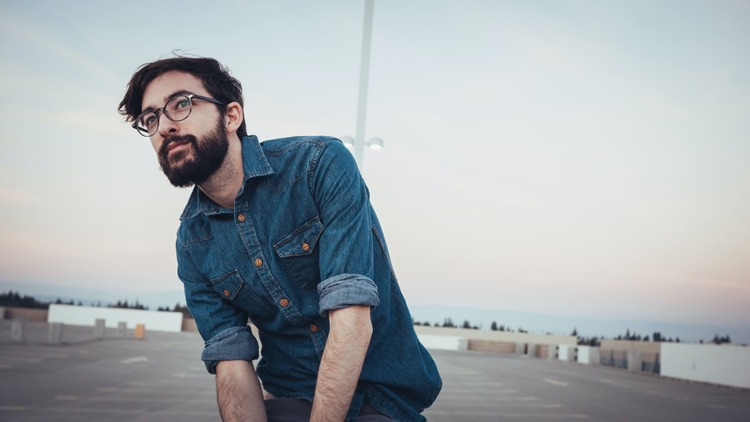without_mask: (142, 84, 218, 173)
